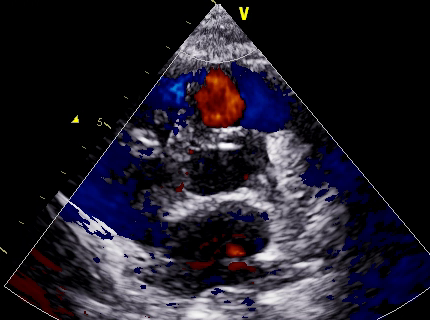TR: (98, 170, 185, 242)
